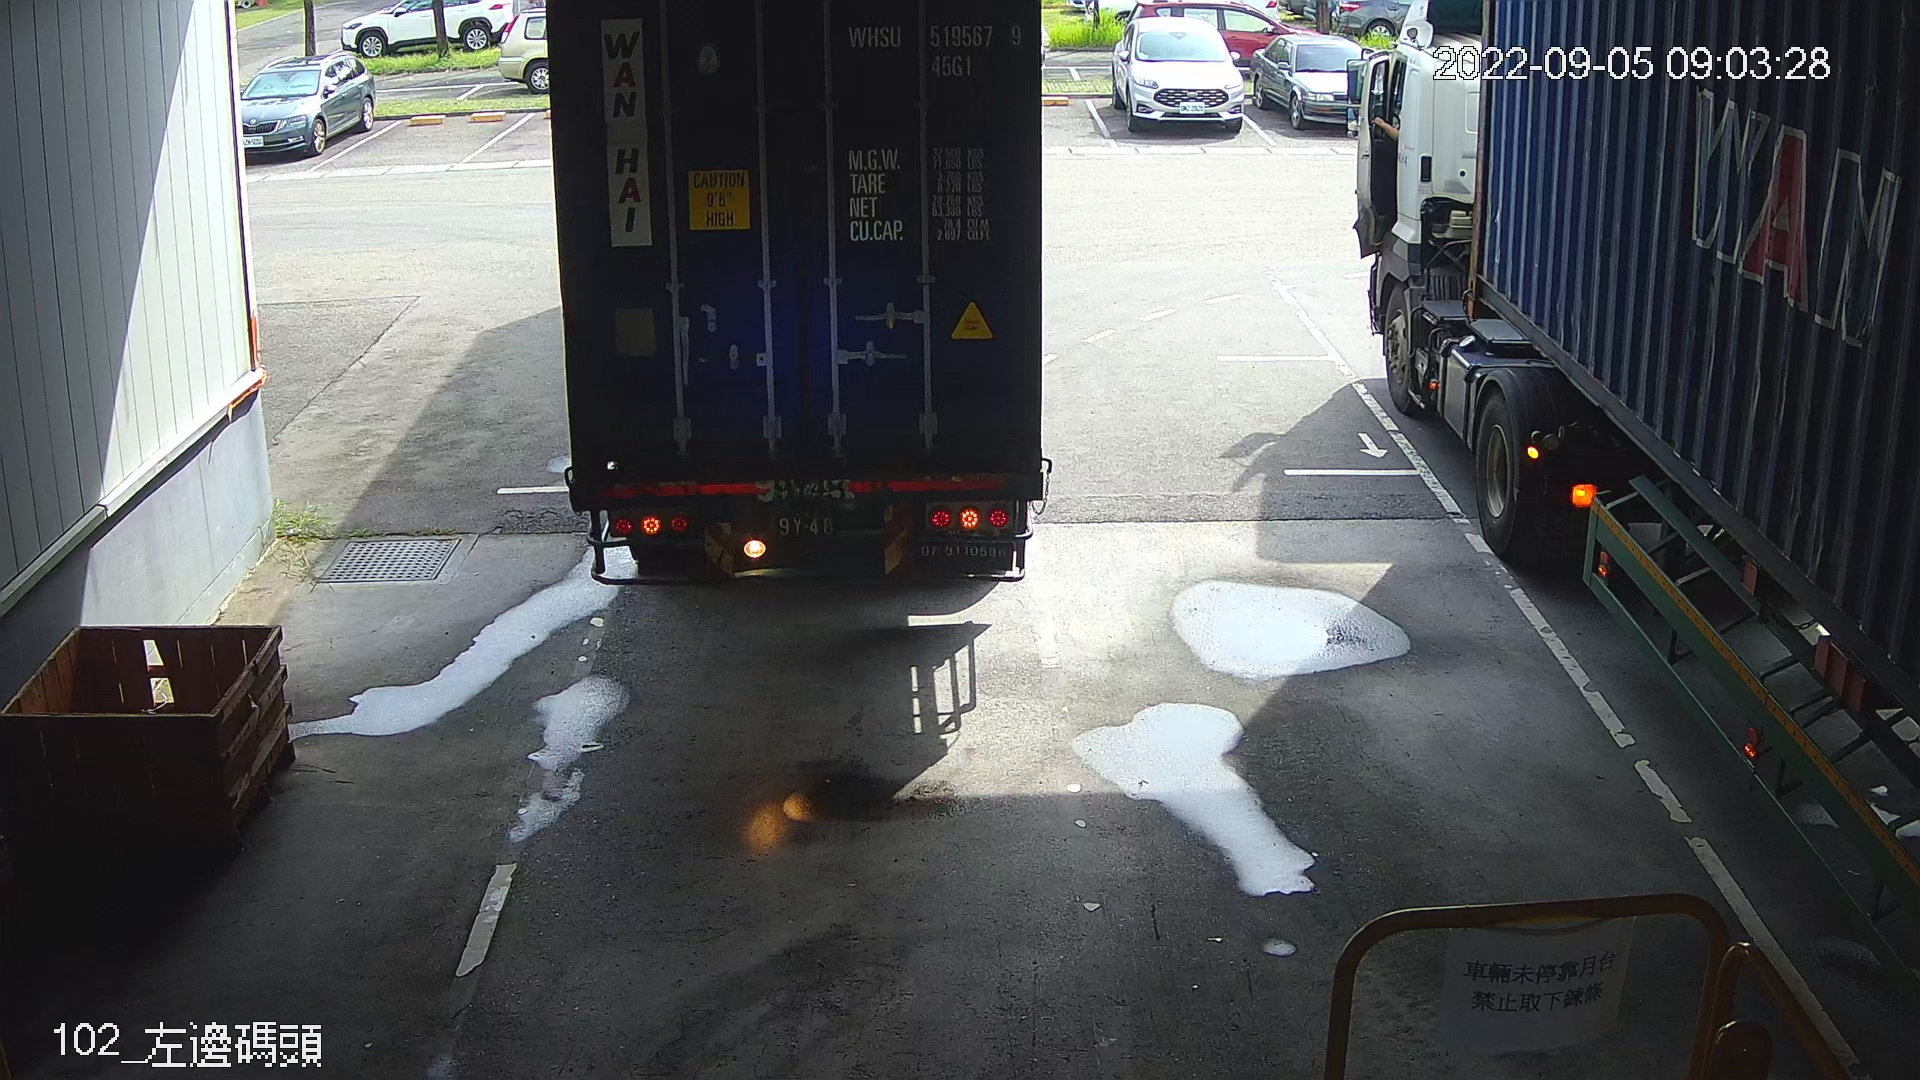container: (841, 13, 1031, 86)
